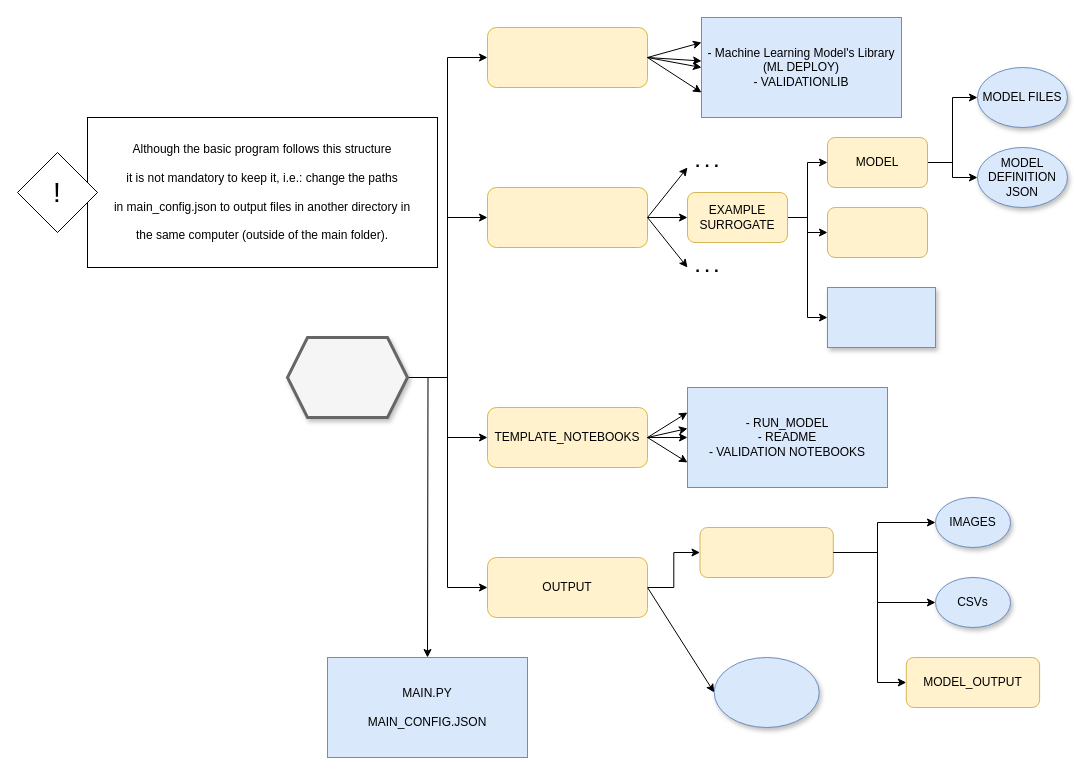
This 1091x775 diagram has some shape labels left out. The centre of each missing label's shape, as x and y in pixels:
"APPENDIX" belongs at [766,552].
"DATASETS" belongs at [877,232].
"LIBRARIES" belongs at [567,57].
"MODEL CONFIG JSON" belongs at [882,318].
"NOTEBOOKS & HTML FILES" belongs at [767,693].
"STRUCTURE" belongs at [348,379].
"SURROGATES" belongs at [567,217].
